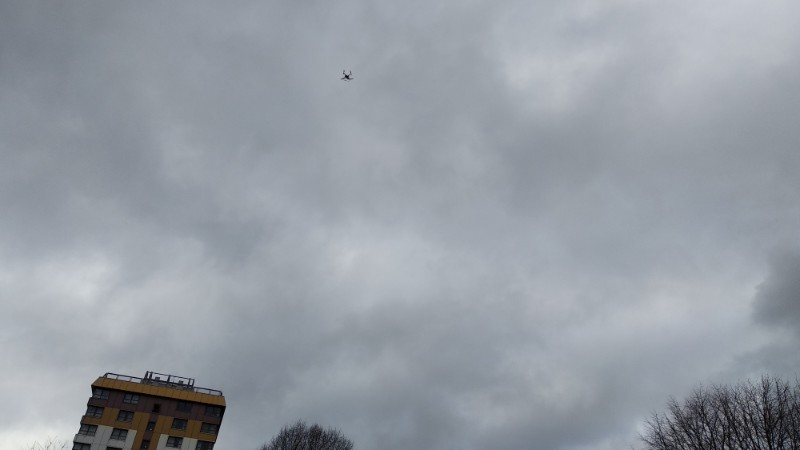drone: (340, 70, 354, 82)
